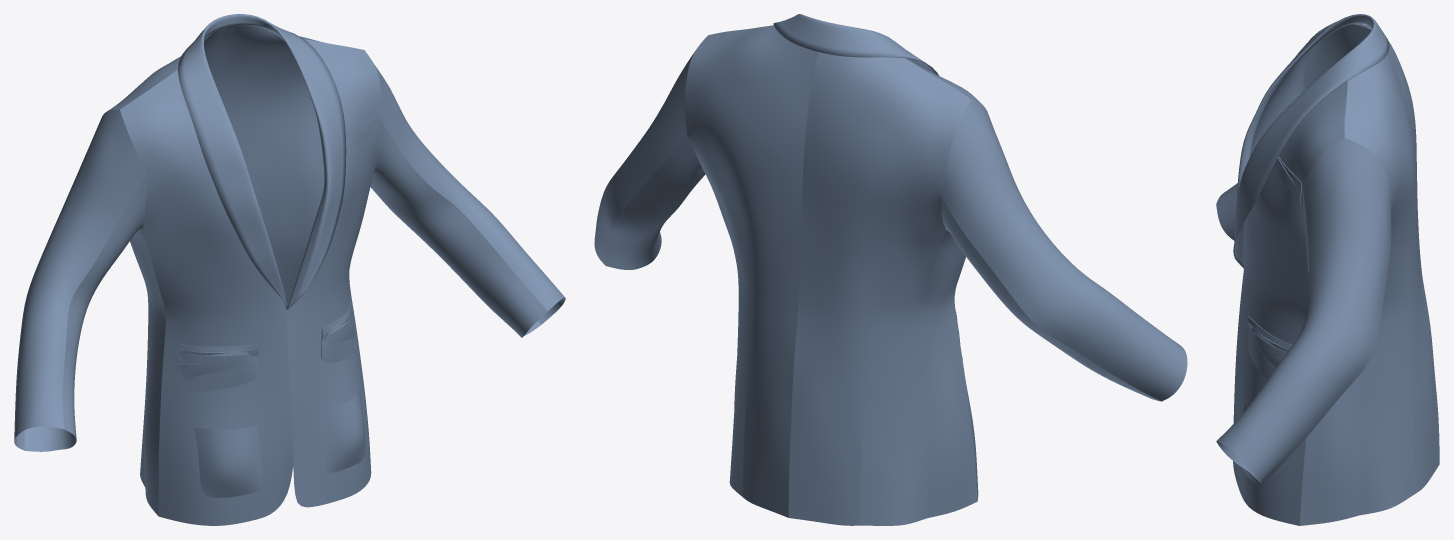
File: March_Batch_Test_01.fbx
3 views of the same model, side by side, from view 1: azimuth 30°, elevation 25°; view 2: azimuth 150°, elevation 25°; view 3: azimuth 270°, elevation 25° (orthographic). The views are drawn at different scales.
Parts seen in each view (by area): view 1: SM_CarlosSA_Jacket_StaticPart_02, SM_CarlosSA_Lapel_Base_01, SM_CarlosSA_Lapel_Base_01.001, SM_CarlosSA_Jacket_BackVent_None, SM_CarlosSA_Jacket_Lapel_Shawl, SM_CarlosSA_Jacket_WaistPockets_Patch, SM_CarlosSA_Jacket_StaticPart_01, SM_CarlosSA_Jacket_WaistPockets_StraightFlap, SM_CarlosSA_Jacket_WaistPockets_SlantedFlap, SM_CarlosSA_Jacket_WaistPockets_StraightJetted; view 2: SM_CarlosSA_Jacket_BackVent_None, SM_CarlosSA_Jacket_StaticPart_02, SM_CarlosSA_Jacket_BackVent_SingleVent, SM_CarlosSA_Jacket_BackVent_DoubleVent, SM_CarlosSA_Jacket_StaticPart_01, SM_CarlosSA_Jacket_Lapel_Shawl; view 3: SM_CarlosSA_Jacket_StaticPart_02, SM_CarlosSA_Lapel_Base_01.001, SM_CarlosSA_Jacket_BackVent_None, SM_CarlosSA_Jacket_Lapel_Shawl, SM_CarlosSA_Jacket_StaticPart_01, SM_CarlosSA_Jacket_BackVent_DoubleVent, SM_CarlosSA_Jacket_BackVent_SingleVent, SM_CarlosSA_Lapel_Base_01, SM_CarlosSA_Jacket_WaistPockets_StraightFlap, SM_CarlosSA_Jacket_WaistPockets_SlantedFlap, SM_CarlosSA_Jacket_ChestPockets_Slanted, SM_CarlosSA_Jacket_WaistPockets_StraightJetted.
Boxes of the visible parts, box(x1,y1,x2,y2) form: SM_CarlosSA_Jacket_StaticPart_02: box(14, 63, 565, 451); SM_CarlosSA_Lapel_Base_01: box(120, 70, 293, 525); SM_CarlosSA_Lapel_Base_01.001: box(286, 39, 380, 507); SM_CarlosSA_Jacket_BackVent_None: box(107, 25, 326, 486); SM_CarlosSA_Jacket_Lapel_Shawl: box(178, 14, 346, 311); SM_CarlosSA_Jacket_WaistPockets_Patch: box(193, 387, 365, 497); SM_CarlosSA_Jacket_StaticPart_01: box(130, 228, 165, 515); SM_CarlosSA_Jacket_WaistPockets_StraightFlap: box(181, 314, 354, 379); SM_CarlosSA_Jacket_WaistPockets_SlantedFlap: box(180, 336, 356, 391); SM_CarlosSA_Jacket_WaistPockets_StraightJetted: box(179, 303, 352, 355); SM_CarlosSA_Jacket_BackVent_None: box(684, 27, 970, 525); SM_CarlosSA_Jacket_StaticPart_02: box(594, 51, 1187, 401); SM_CarlosSA_Jacket_BackVent_SingleVent: box(728, 25, 913, 523); SM_CarlosSA_Jacket_BackVent_DoubleVent: box(729, 329, 905, 525); SM_CarlosSA_Jacket_StaticPart_01: box(734, 230, 977, 517); SM_CarlosSA_Jacket_Lapel_Shawl: box(773, 14, 939, 75); SM_CarlosSA_Jacket_StaticPart_02: box(1216, 24, 1391, 483); SM_CarlosSA_Lapel_Base_01.001: box(1233, 81, 1347, 525); SM_CarlosSA_Jacket_BackVent_None: box(1344, 23, 1430, 515); SM_CarlosSA_Jacket_Lapel_Shawl: box(1233, 14, 1389, 268); SM_CarlosSA_Jacket_StaticPart_01: box(1299, 374, 1360, 525); SM_CarlosSA_Jacket_BackVent_DoubleVent: box(1379, 341, 1429, 509); SM_CarlosSA_Jacket_BackVent_SingleVent: box(1347, 23, 1439, 479); SM_CarlosSA_Lapel_Base_01: box(1250, 21, 1337, 156); SM_CarlosSA_Jacket_WaistPockets_StraightFlap: box(1248, 326, 1288, 367); SM_CarlosSA_Jacket_WaistPockets_SlantedFlap: box(1247, 341, 1275, 378); SM_CarlosSA_Jacket_ChestPockets_Slanted: box(1273, 158, 1300, 204); SM_CarlosSA_Jacket_WaistPockets_StraightJetted: box(1247, 316, 1292, 351).
Bounding box in the file's own units: 98.09 × 76.79 × 34.53.
